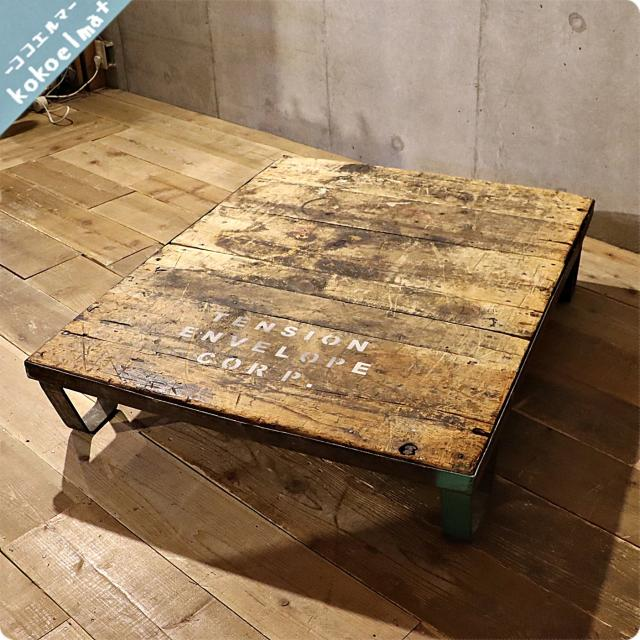vintage desk: (32, 149, 594, 524)
